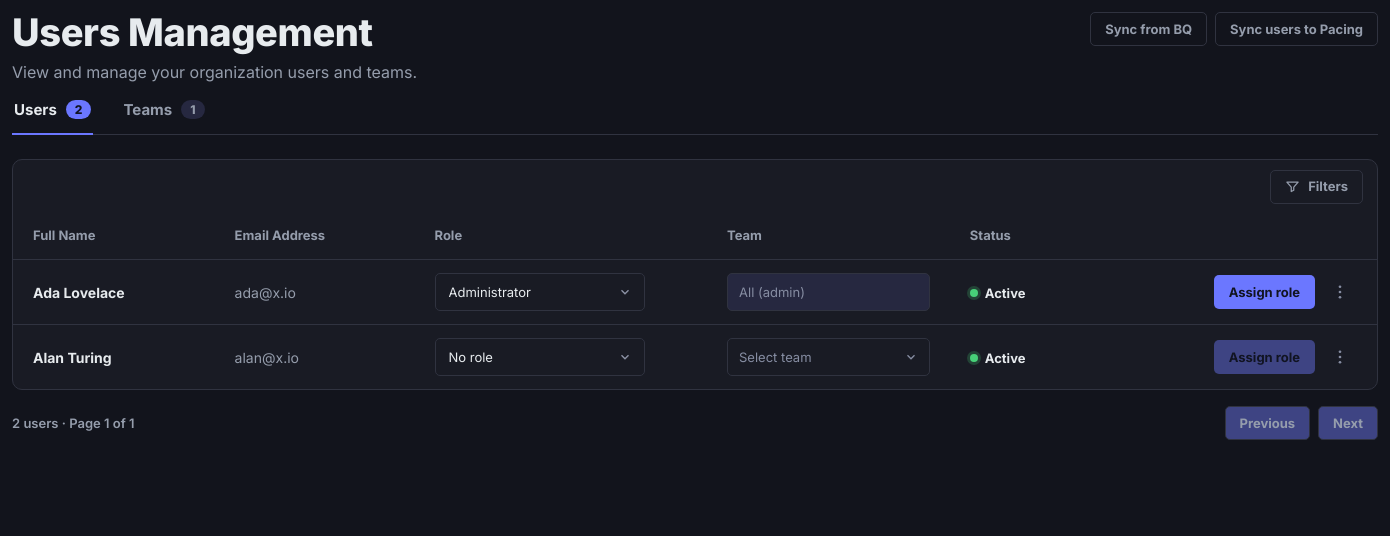
TeamManagement › should let you search teams inside the assignment dropdown
Check: the text "Alan Turing" is shown, box [13, 325, 215, 389]
Click the button with aria-label "Team for Alan Turing": (828, 357) [727, 338, 930, 376]
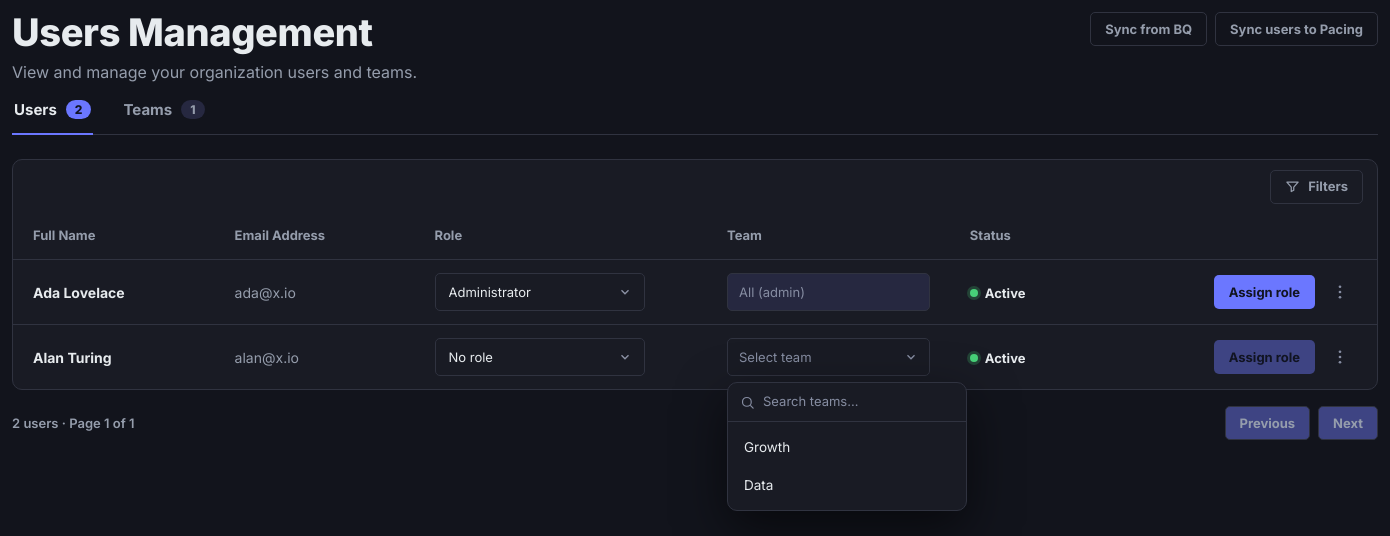
Check: the button "Data" is shown, box [734, 466, 960, 504]
In the search field labelled "Search teams": (858, 402) [763, 392, 954, 412], type "grow"
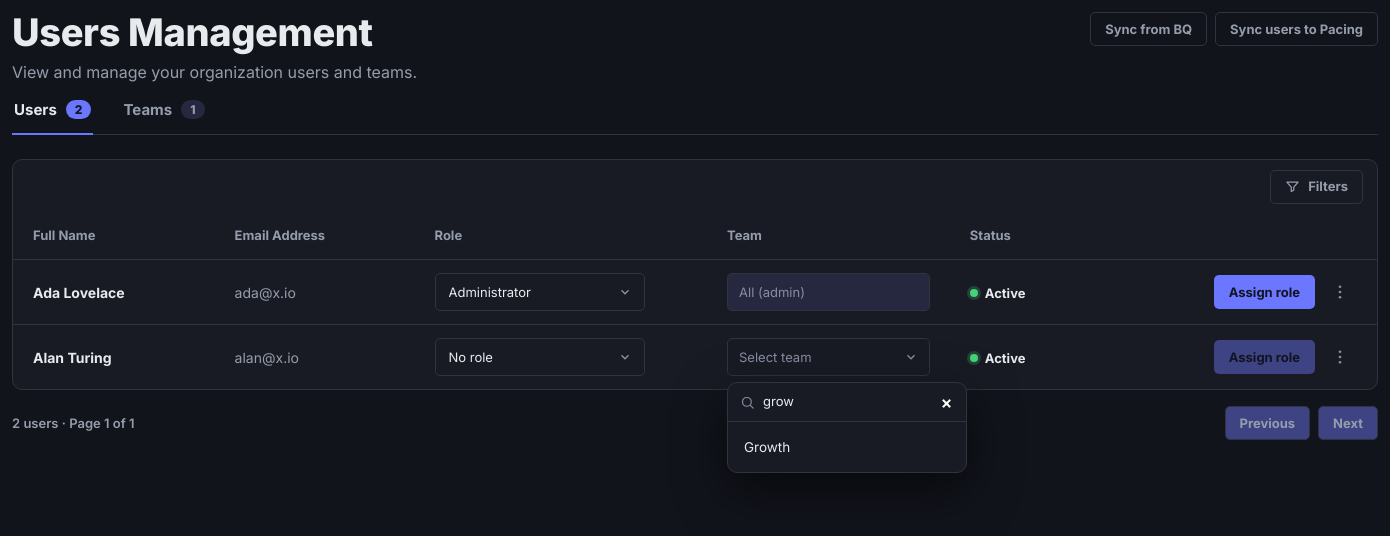
Check: the button "Growth" is shown, box [734, 428, 960, 466]
Check: the button "Data" is gone
